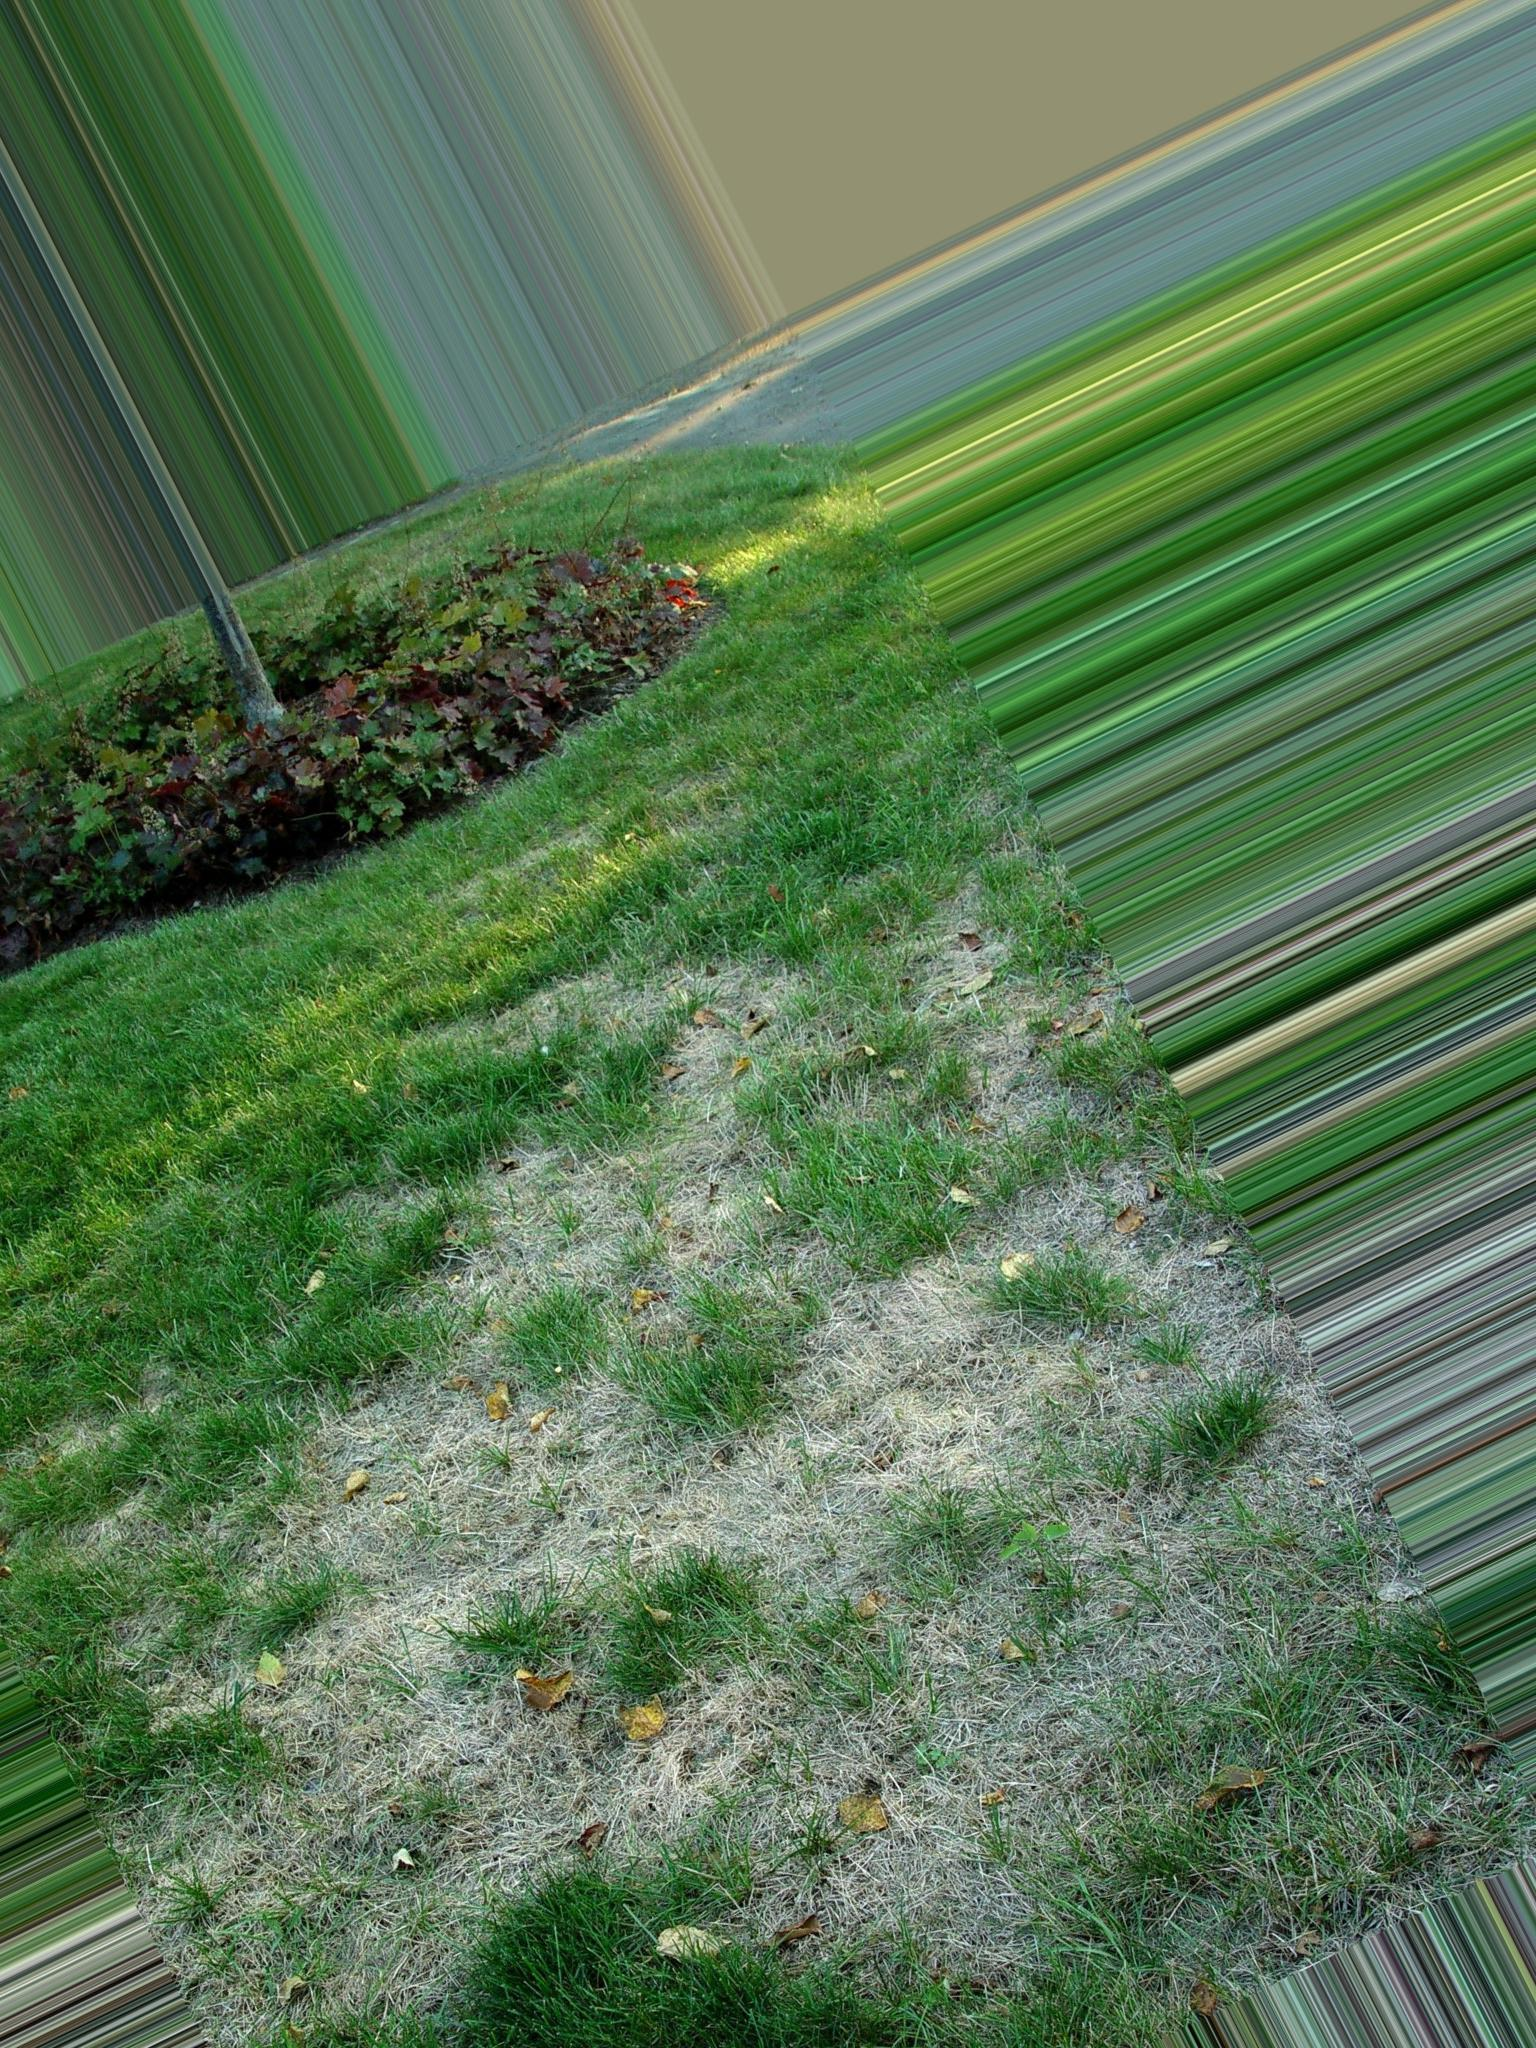patch: (424, 1469, 658, 1629), (728, 1455, 921, 1566), (597, 1758, 766, 1835), (431, 1735, 576, 1822), (1073, 1580, 1241, 1655), (887, 1779, 994, 1884), (331, 1442, 410, 1569), (865, 1317, 1025, 1380), (452, 1379, 555, 1458), (194, 1842, 294, 1887)
